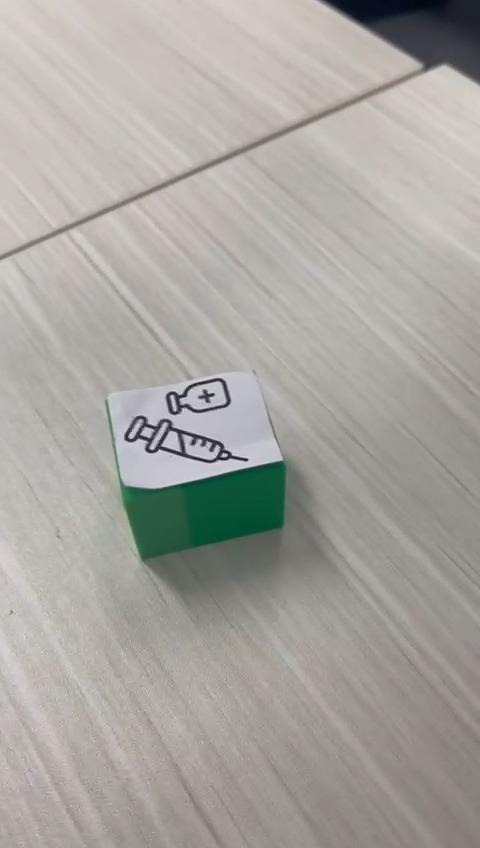antiseptic cream: (103, 368, 287, 561)
